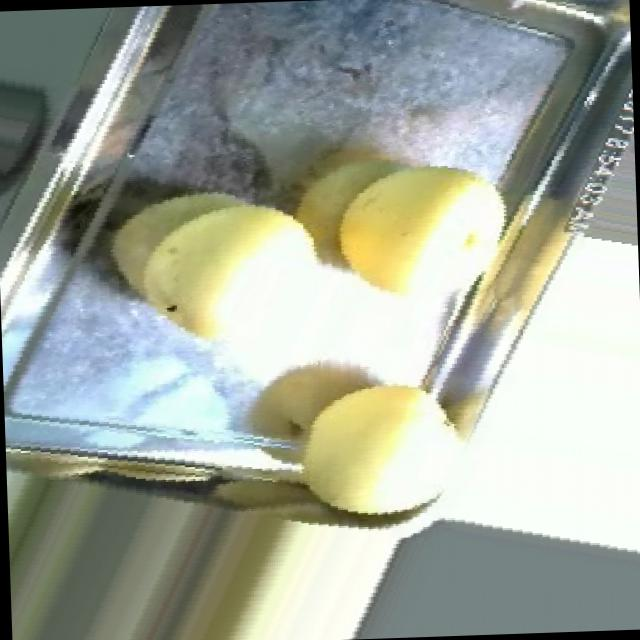Fruit: (86, 164, 322, 366), (269, 350, 484, 552), (319, 143, 513, 320)
